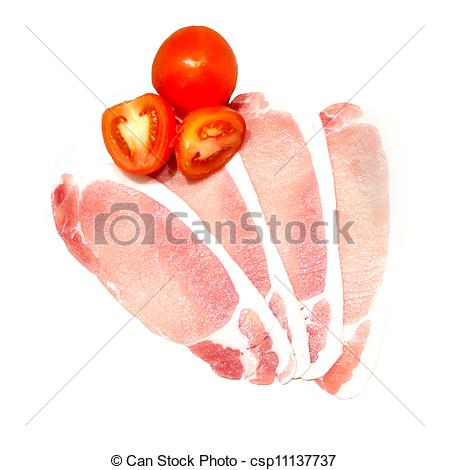bacon: (81, 111, 378, 372)
